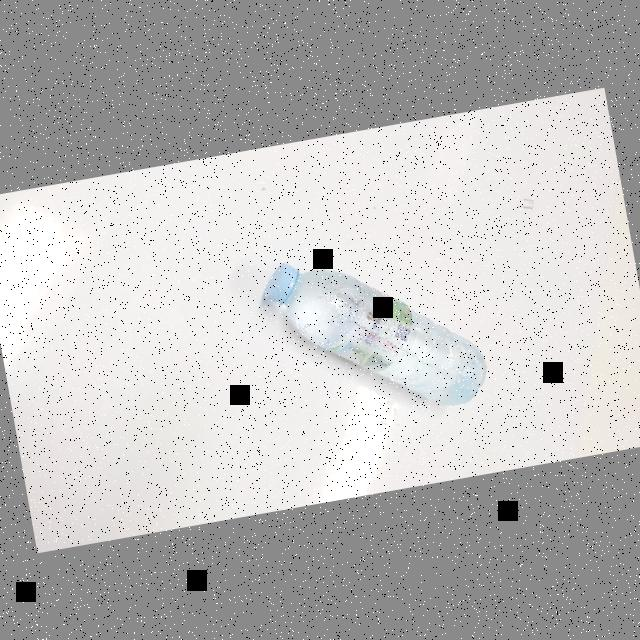plastic_bottle: (253, 228, 495, 438)
plastic_bottle_cap: (258, 260, 306, 306)
